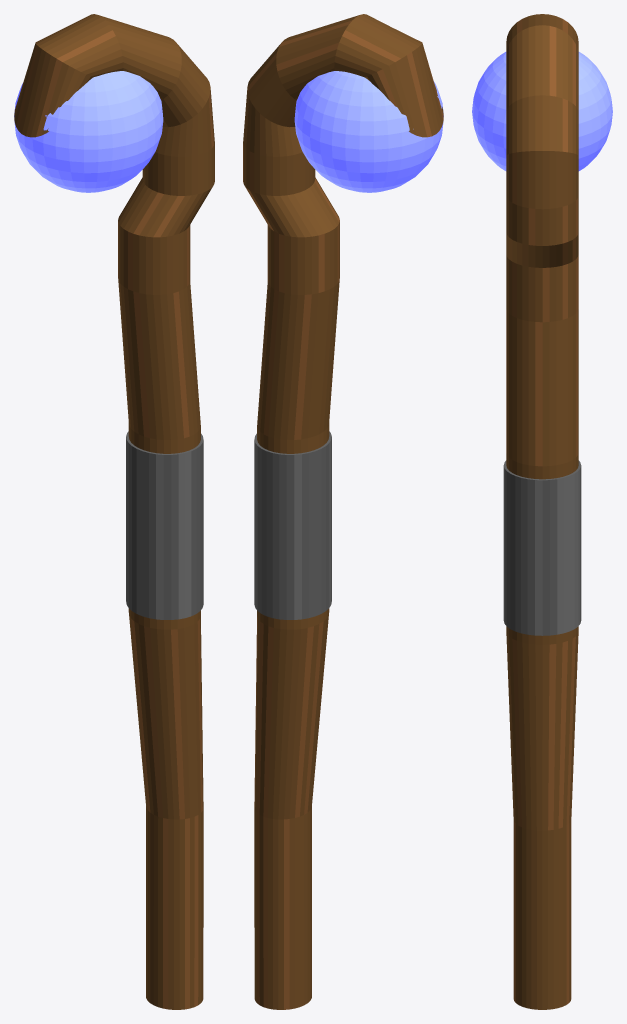
File: Step3 - JohnA.fbx
3 renders of one model, left to right at view 1: azimuth 30°, elevation 25°; view 2: azimuth 150°, elevation 25°; view 3: azimuth 270°, elevation 25°, orthographic. The views are drawn at different scales.
Parts seen in each view (by area): view 1: Cylinder, Sphere; view 2: Cylinder, Sphere; view 3: Cylinder, Sphere.
Part boxes in pixels (x1,y1,x2,y2): Cylinder: (14, 14, 214, 1009); Sphere: (14, 71, 163, 192); Cylinder: (243, 14, 443, 1009); Sphere: (294, 71, 443, 192); Cylinder: (503, 14, 581, 1009); Sphere: (472, 52, 612, 171).
Bounding box in the file's own units: 207 × 1053 × 143.
